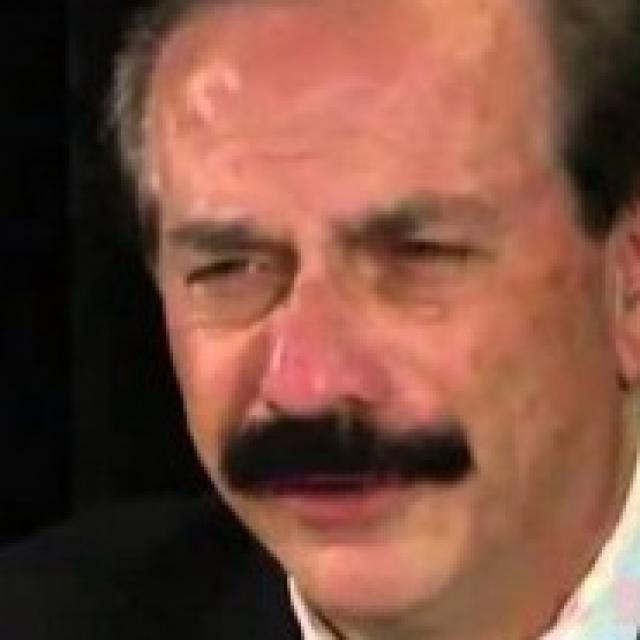Depress: (148, 0, 610, 631)
